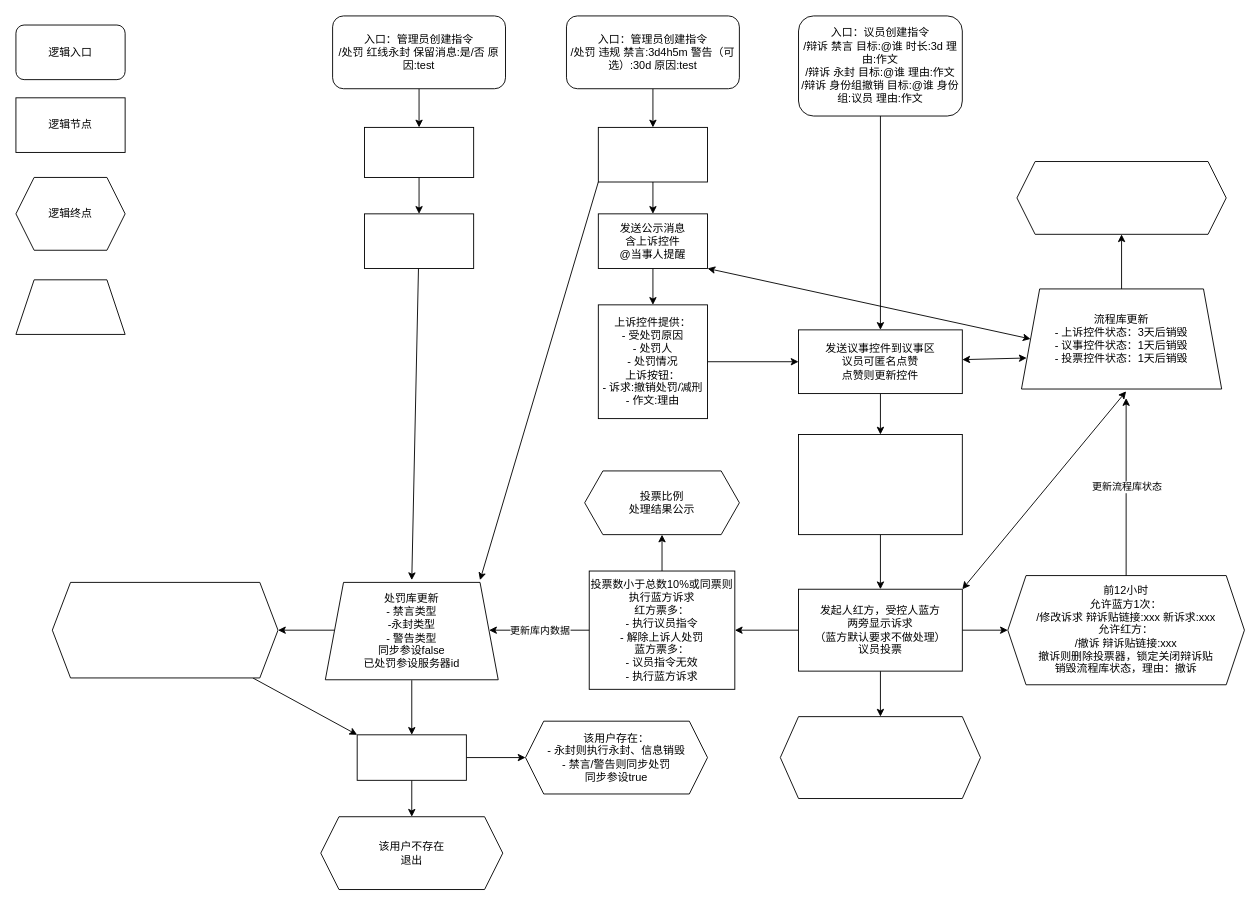
This 1260x905 diagram has some shape labels left out. The shapes that lost their labels are listed below. From the top down, each one's centre as x and y in pixels, then its label:
At point 419,151: "执行永封".
At point 652,154: "执行处罚效果".
At point 1121,197: "bot启动则马上根据当前时间计算 删除控件，计算后发送新控件".
At point 419,240: "发送公示消息 且私聊发送提醒".
At point 70,306: "数据库".
At point 880,484: "达到10赞后 执行变更： - 解除禁言 - 添加辩诉区通行 - 向辩诉区创建新帖子 - @当事人 - 在辩诉贴下创建投票器控件".
At point 164,629: "bot启动定时任务 每5分钟双服务器循环全库 - 警告到期解除并销毁警告 - 禁言到期消除到期信息 - false同步参执行扫描任务".
At point 411,757: "检查另一服务器存在状态".
At point 880,757: "每3分钟： - 重置每个人投票权，更新投票状态 - 检查是否到12小时公开比分 - 拔河图显示票数比例 - 检查是否到期24小时结束".
